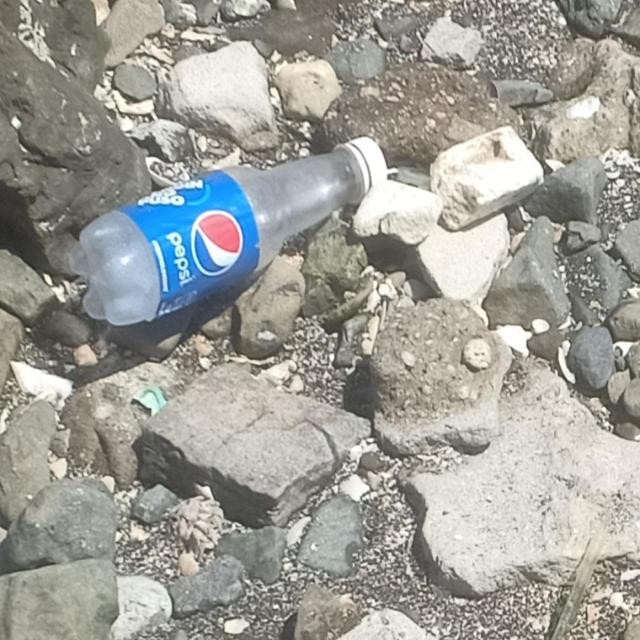plastic_waste: (80, 136, 390, 328)
